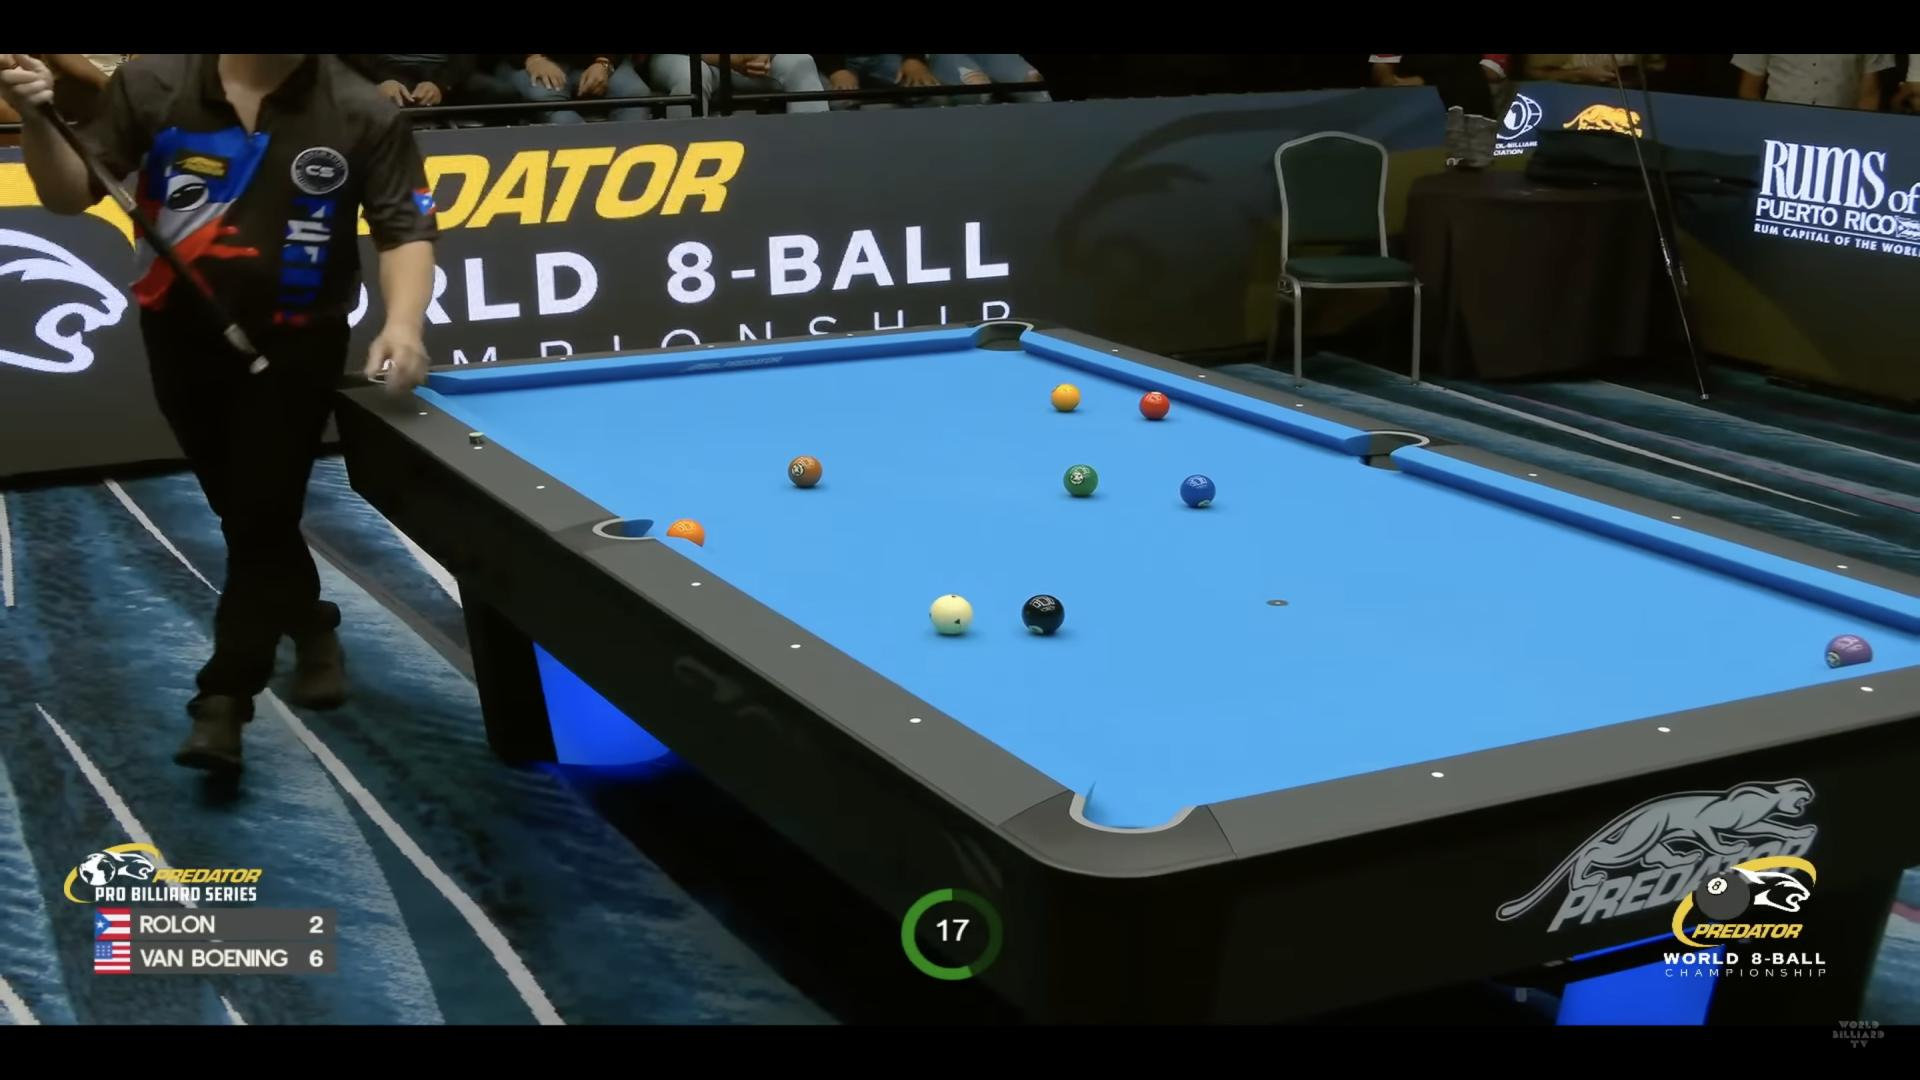Black: (1021, 593, 1065, 634)
Cue: (928, 593, 973, 634)
Dot: (907, 712, 924, 727), (787, 640, 804, 654), (688, 578, 705, 592), (1656, 723, 1672, 737), (1431, 767, 1445, 782), (1859, 683, 1874, 698), (1836, 559, 1850, 574), (535, 483, 546, 492), (1295, 401, 1305, 410), (1197, 372, 1208, 381), (1110, 345, 1121, 355), (473, 443, 483, 452), (418, 410, 429, 418), (1672, 514, 1681, 522), (1528, 471, 1538, 479), (559, 356, 567, 363), (707, 343, 715, 349), (845, 331, 853, 338)
Solid: (1826, 636, 1873, 669), (1179, 473, 1216, 508), (1063, 464, 1098, 496), (789, 455, 823, 487), (667, 520, 705, 547), (1139, 392, 1170, 419), (1051, 384, 1081, 411)
